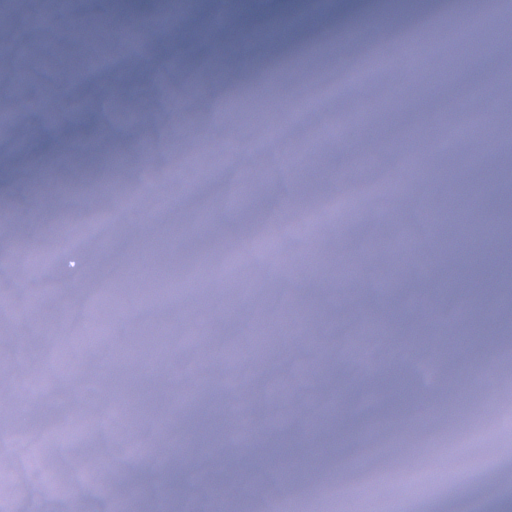Iceberg: (69, 262, 74, 266)
